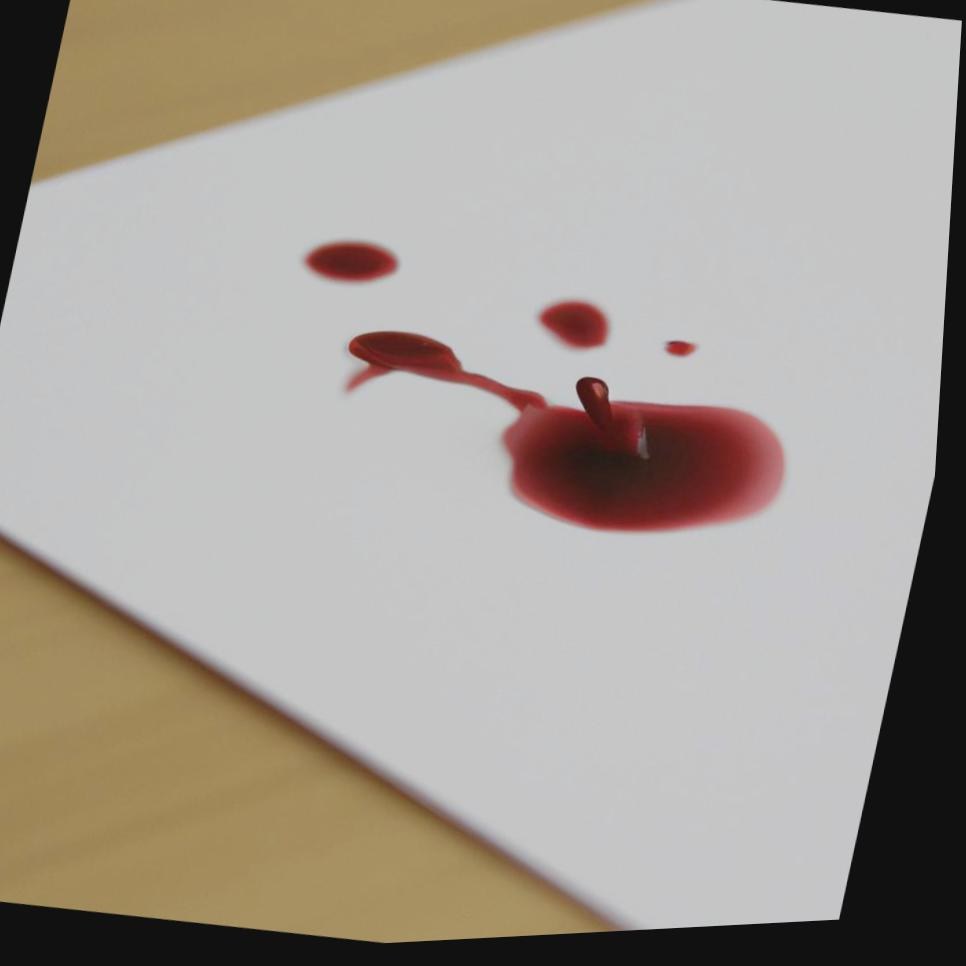Fire: (349, 334, 791, 540), (305, 244, 403, 286), (541, 306, 614, 355), (669, 348, 703, 364)
